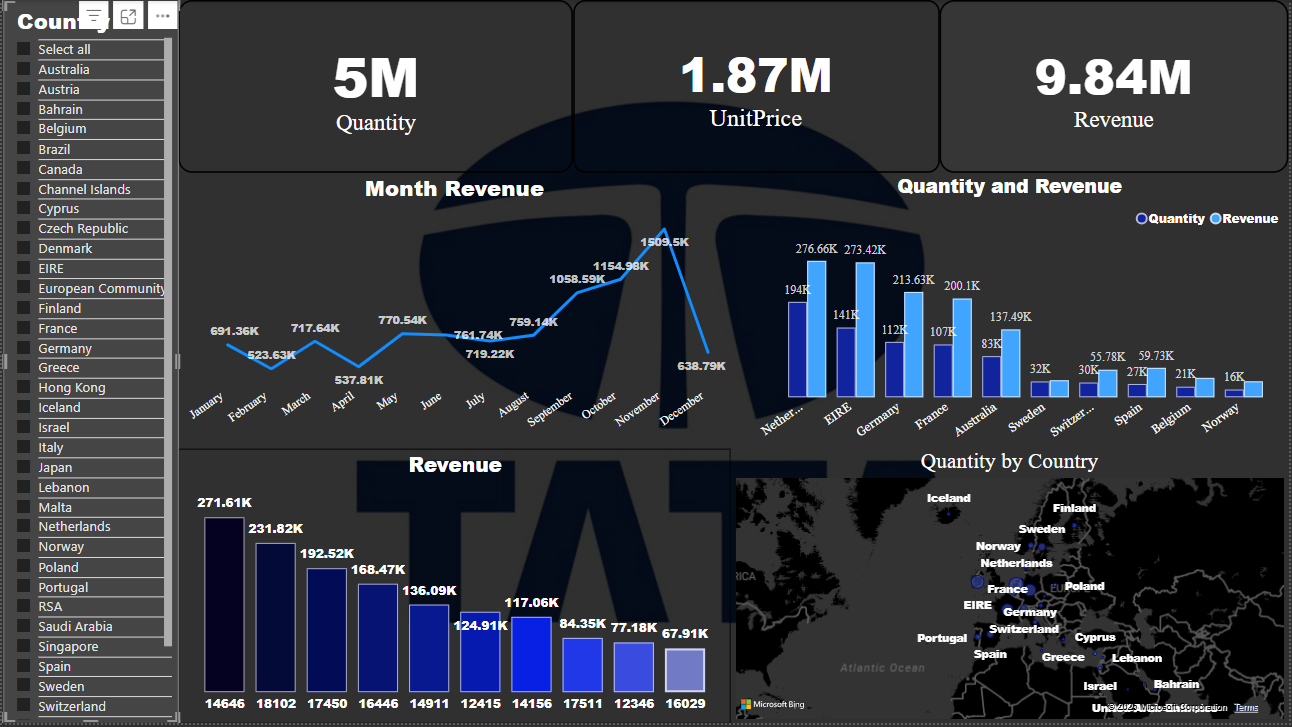

This screenshot's page, from the dashboard's own definition file:
{"tool":"powerbi","page":{"name":"Online Retail Dataset","canvas":[1280,720],"ordinal":0},"visuals":[{"type":"clusteredColumnChart","title":"Quantity and Revenue ","fields":{"Y":["Sum(Online Retail.Quantity)","Sum(Online Retail.Revenue)"],"Category":["Online Retail.Country"]},"box":[725.2,171.7,554.8,274.9],"z":2},{"type":"lineChart","title":"Month Revenue ","fields":{"Y":["Sum(Online Retail.Revenue)"],"Category":["Online Retail.InvoiceDate.Variation.Date Hierarchy.Month"]},"box":[175.4,171.7,549.8,274.9],"z":3},{"type":"clusteredColumnChart","title":"Revenue ","fields":{"Category":["Online Retail.CustomerID"],"Y":["Sum(Online Retail.Revenue)"]},"box":[175.4,446.6,549.8,273.7],"z":4},{"type":"map","fields":{"Category":["Online Retail.Country"],"Size":["Sum(Online Retail.Quantity)"]},"box":[725.2,446.6,554.8,273.7],"z":5},{"type":"slicer","fields":{"Values":["Online Retail.Country"]},"box":[1.2,0,174.2,720.3],"z":6},{"type":"card","fields":{"Values":["Sum(Online Retail.Quantity)"]},"box":[175.4,0,393.1,171.7],"z":7},{"type":"card","fields":{"Values":["Sum(Online Retail.UnitPrice)"]},"box":[568.5,0,364.5,171.7],"z":8},{"type":"card","fields":{"Values":["Sum(Online Retail.Revenue)"]},"box":[933,0,347.1,171.7],"z":9}]}

Visuals, with their boxes in screenshot pixels (x1, y1, x2, y2), scaled from the page's 1280x720 canvas onto the 1292x727 screenshot:
"Quantity and Revenue " clusteredColumnChart: 732, 173, 1291, 451
"Month Revenue " lineChart: 177, 173, 732, 451
"Revenue " clusteredColumnChart: 177, 451, 732, 726
map - Online Retail.Country x Sum(Online Retail.Quantity): 732, 451, 1291, 726
slicer - Online Retail.Country: 1, 0, 177, 726
card - Sum(Online Retail.Quantity): 177, 0, 574, 173
card - Sum(Online Retail.UnitPrice): 574, 0, 942, 173
card - Sum(Online Retail.Revenue): 942, 0, 1291, 173
